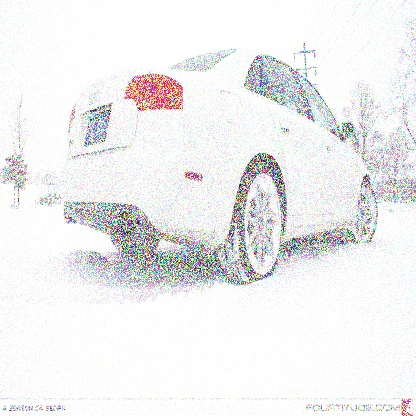Vehicle: (60, 46, 379, 286)
